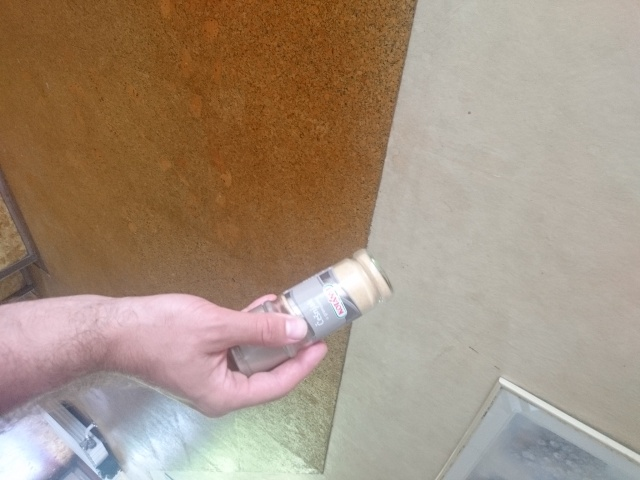Kotanyi Garlic Granules 70g: (218, 246, 396, 380)
